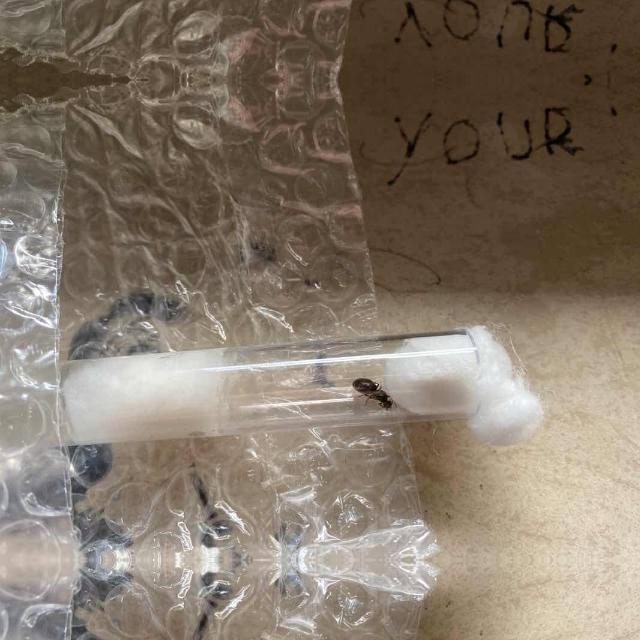Lasius: (348, 370, 399, 410)
